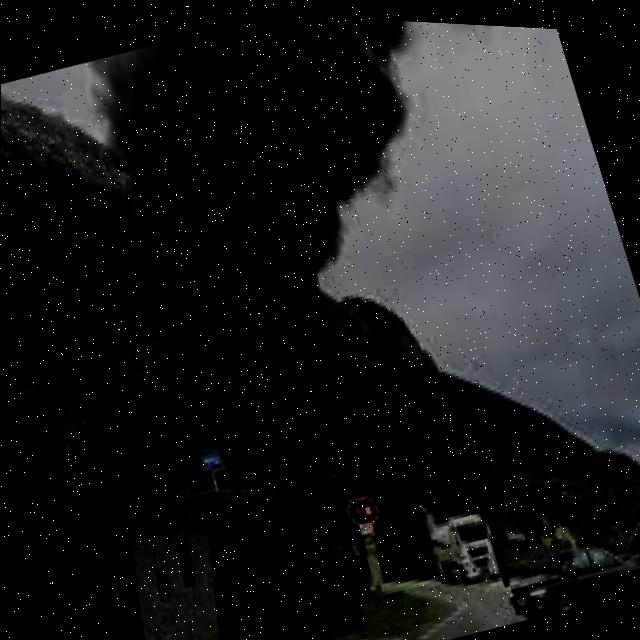Smoke: (44, 2, 506, 432)
